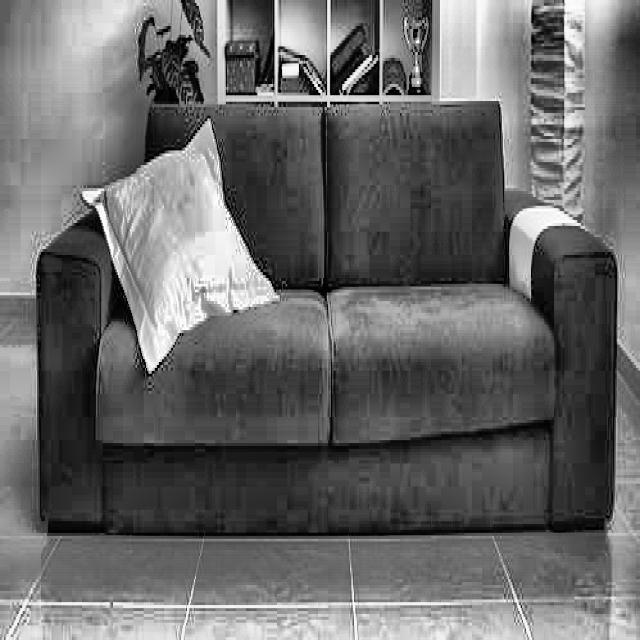sofa: (35, 98, 618, 539)
